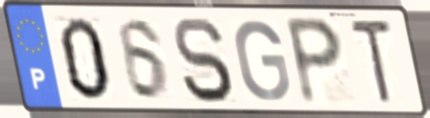0: (57, 15, 115, 103)
6: (115, 17, 173, 101)
G: (232, 17, 293, 103)
P: (282, 14, 346, 108)
S: (170, 14, 237, 106)
T: (347, 17, 396, 107)
